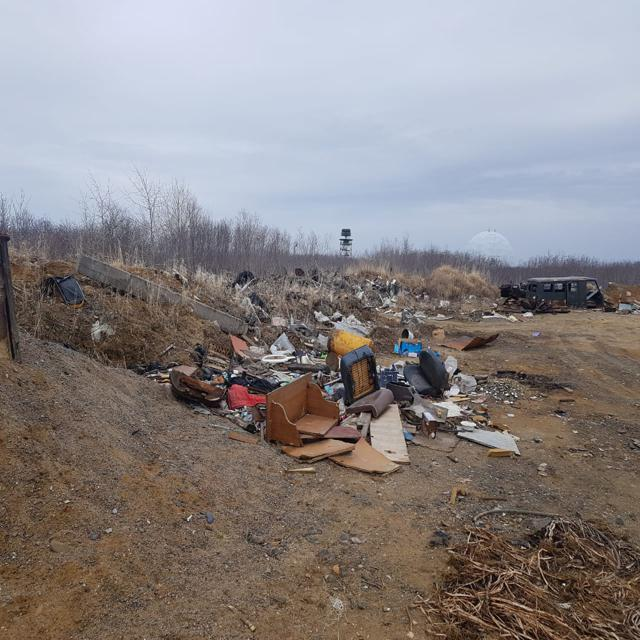lixeira: (267, 333, 378, 444), (382, 344, 448, 455), (168, 338, 232, 406), (228, 370, 281, 415), (48, 274, 85, 306), (394, 329, 425, 359)
